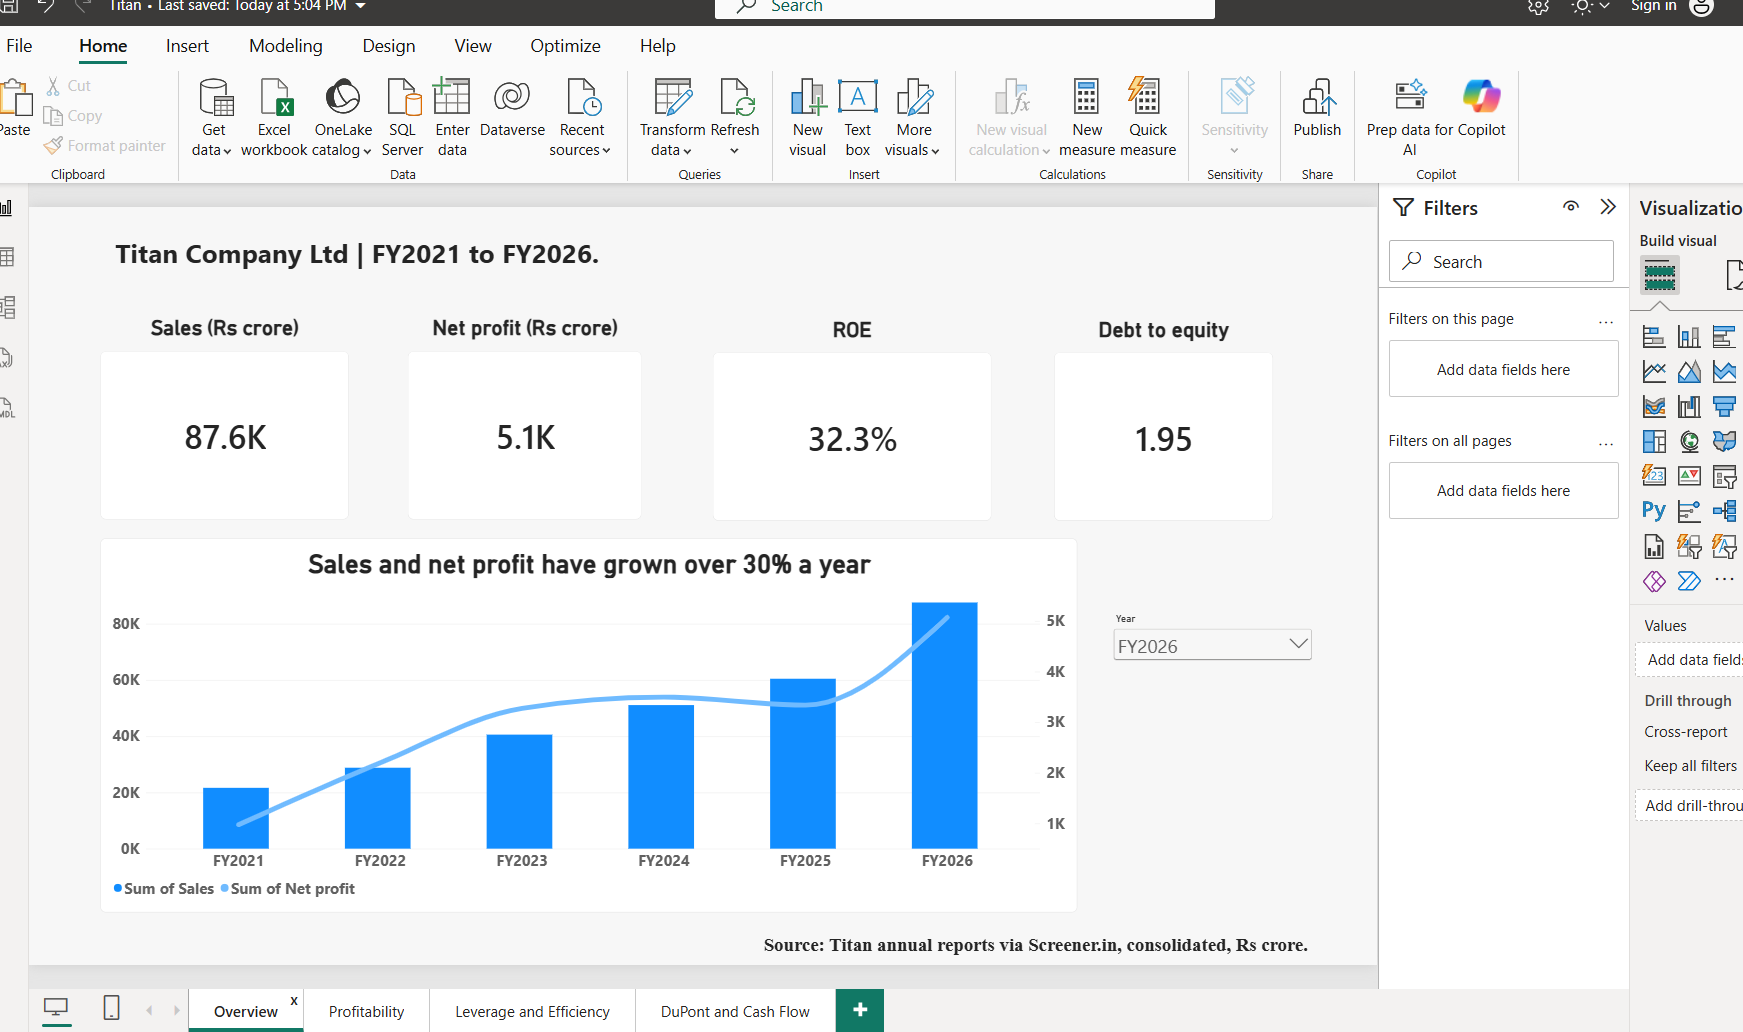

This screenshot's page, from the dashboard's own definition file:
{"tool":"powerbi","page":{"name":"Overview","canvas":[1920,1080],"ordinal":0},"visuals":[{"type":"cardVisual","title":"Sales (Rs crore)","fields":{"Data":["Sum(PowerBI_Data.Sales)"]},"box":[100.9,154.4,354,290.2],"z":0},{"type":"cardVisual","title":"Net profit (Rs crore)","fields":{"Data":["Sum(PowerBI_Data.Net profit)"]},"box":[539.3,154.8,333.4,290.2],"z":1000},{"type":"cardVisual","title":"ROE","fields":{"Data":["Sum(PowerBI_Data.ROE)"]},"box":[973.5,156.6,397.3,290.2],"z":2000},{"type":"cardVisual","title":"Debt to equity","fields":{"Data":["Sum(PowerBI_Data.Debt to equity)"]},"box":[1459.4,156.4,312.9,290.2],"z":3000},{"type":"lineStackedColumnComboChart","title":"Sales and net profit have grown over 30% a year","fields":{"Category":["PowerBI_Data.Year"],"Y":["Sum(PowerBI_Data.Sales)"],"Y2":["Sum(PowerBI_Data.Net profit)"]},"box":[100.9,471.4,1391.4,533.1],"z":4000},{"type":"slicer","fields":{"Values":["PowerBI_Data.Year"]},"box":[1539.6,576.3,292.3,162.6],"z":5000},{"type":"textbox","box":[123.5,39.1,765.7,53.5],"z":6000},{"type":"textbox","box":[1039.5,1035.3,792.5,45.3],"z":7000}]}

Visuals, with their boxes on the page's 1920x1080 design canvas (x1, y1, x2, y2). These are canvas units, not pixel positions in the 1743x1032 screenshot, which may show the page scaled, cropped or inside an application window:
"Sales (Rs crore)" cardVisual: [101, 154, 455, 445]
"Net profit (Rs crore)" cardVisual: [539, 155, 873, 445]
"ROE" cardVisual: [974, 157, 1371, 447]
"Debt to equity" cardVisual: [1459, 156, 1772, 447]
"Sales and net profit have grown over 30% a year" lineStackedColumnComboChart: [101, 471, 1492, 1004]
slicer - PowerBI_Data.Year: [1540, 576, 1832, 739]
textbox: [124, 39, 889, 93]
textbox: [1040, 1035, 1832, 1081]
